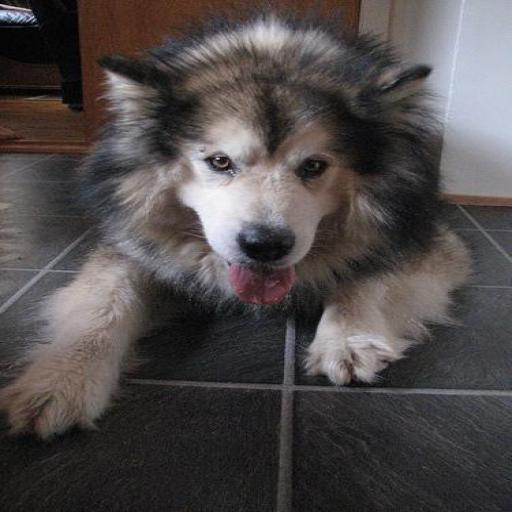dog_face: (85, 47, 442, 291)
